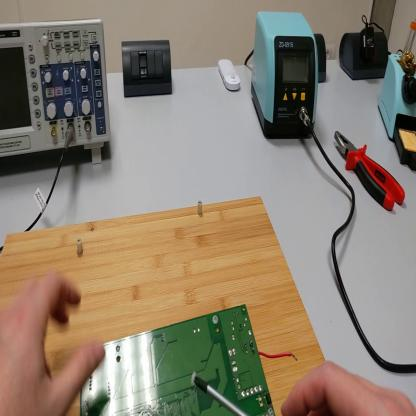hand: (2, 271, 106, 415), (281, 362, 416, 415)
low voltage board: (78, 305, 296, 416)
oscilloscope: (1, 19, 111, 164)
pliers: (334, 131, 406, 211)
screwdriver-: (193, 377, 245, 416)
socket: (341, 35, 388, 83), (315, 33, 328, 85)
welder base: (379, 51, 415, 175)
welder station: (252, 10, 318, 139)
working area: (2, 197, 326, 412)
